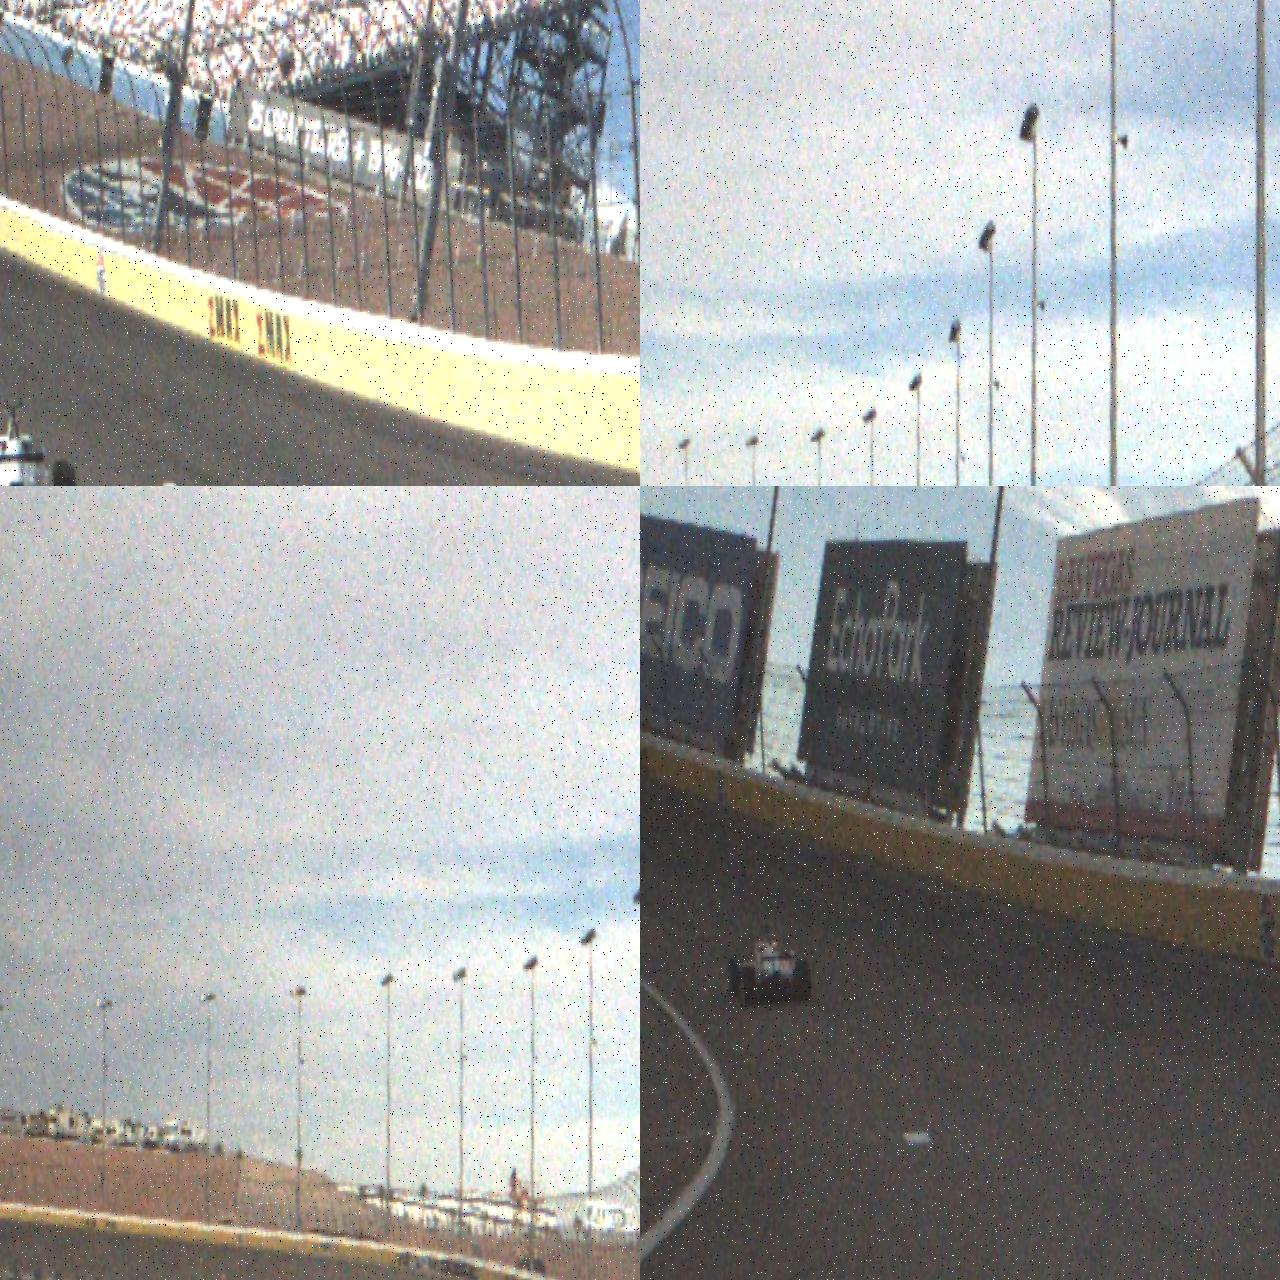AV: (724, 921, 811, 1007), (0, 399, 79, 486)
Wheel: (794, 958, 811, 1003), (738, 965, 757, 1006), (52, 459, 79, 486), (726, 955, 741, 995)
